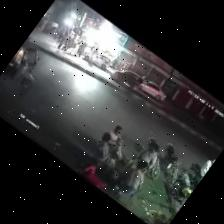person: (115, 161, 147, 194), (131, 143, 158, 169), (200, 159, 214, 179)
